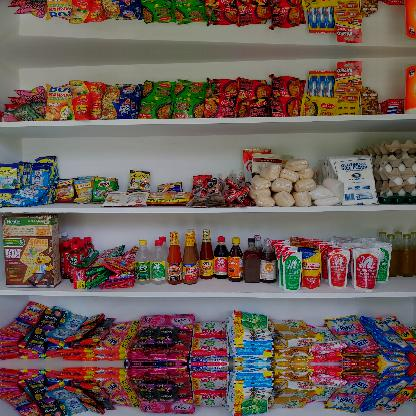Koko-Krunch: (2, 211, 63, 289)
